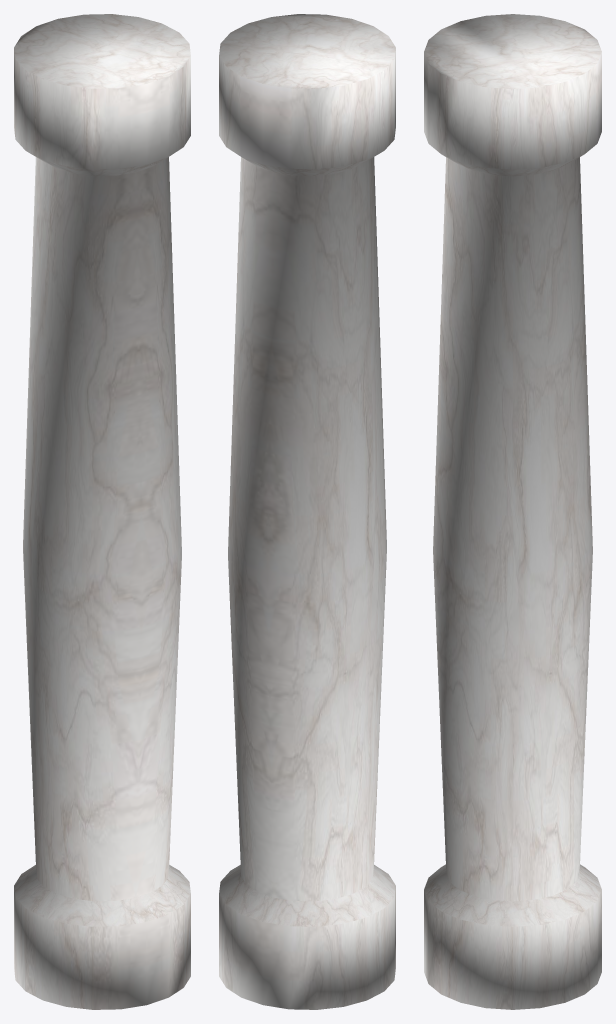
The model's file is pillarType1.obj.
3 views of the same model, side by side, from view 1: azimuth 30°, elevation 25°; view 2: azimuth 150°, elevation 25°; view 3: azimuth 270°, elevation 25° (orthographic).
Visible parts, largest first — view 1: pCylinder1 Mesh; view 2: pCylinder1 Mesh; view 3: pCylinder1 Mesh.
Boxes of the visible parts, bbox=[...] form: pCylinder1 Mesh: bbox=[14, 14, 190, 1009]; pCylinder1 Mesh: bbox=[219, 14, 395, 1009]; pCylinder1 Mesh: bbox=[424, 14, 601, 1009].
Size of the model in its own units: 0.5 by 2.86 by 0.5.
Materials: 1 (1 with a texture image).
